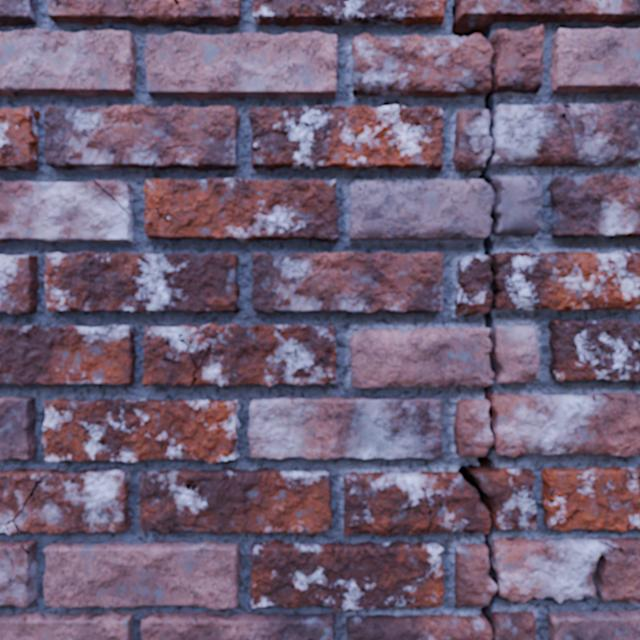broken_brick: (489, 100, 639, 166), (492, 537, 639, 604), (491, 393, 639, 457), (344, 471, 489, 535), (352, 33, 492, 97), (350, 178, 493, 240), (493, 251, 639, 311), (349, 327, 493, 387), (474, 468, 536, 529), (346, 614, 491, 639), (493, 25, 544, 93), (493, 176, 542, 235), (494, 325, 540, 382), (455, 544, 496, 606), (453, 109, 492, 171), (453, 399, 492, 456), (455, 255, 492, 315), (492, 611, 536, 639)
crack: (451, 0, 639, 639), (250, 539, 444, 611), (43, 541, 241, 610), (145, 32, 337, 100), (43, 105, 240, 171), (139, 467, 332, 534), (248, 105, 443, 170), (42, 398, 239, 462), (144, 178, 339, 242), (43, 251, 240, 314), (142, 323, 337, 386), (248, 396, 442, 459), (252, 251, 443, 314), (0, 28, 136, 98), (0, 468, 130, 534), (0, 180, 133, 243), (0, 325, 135, 386), (541, 466, 639, 532), (549, 27, 639, 94), (549, 174, 639, 237), (548, 319, 639, 381), (140, 612, 334, 639), (252, 0, 446, 27), (48, 0, 241, 27), (0, 610, 133, 639), (547, 610, 639, 639), (0, 540, 38, 607), (0, 107, 40, 170), (0, 255, 39, 315), (0, 396, 36, 460), (421, 485, 444, 532), (0, 0, 36, 26), (561, 113, 597, 139), (591, 554, 606, 600), (599, 541, 639, 556), (590, 393, 621, 400), (529, 596, 556, 602), (575, 596, 592, 604), (562, 104, 570, 115), (599, 306, 626, 308), (461, 120, 462, 142), (353, 58, 354, 79)
